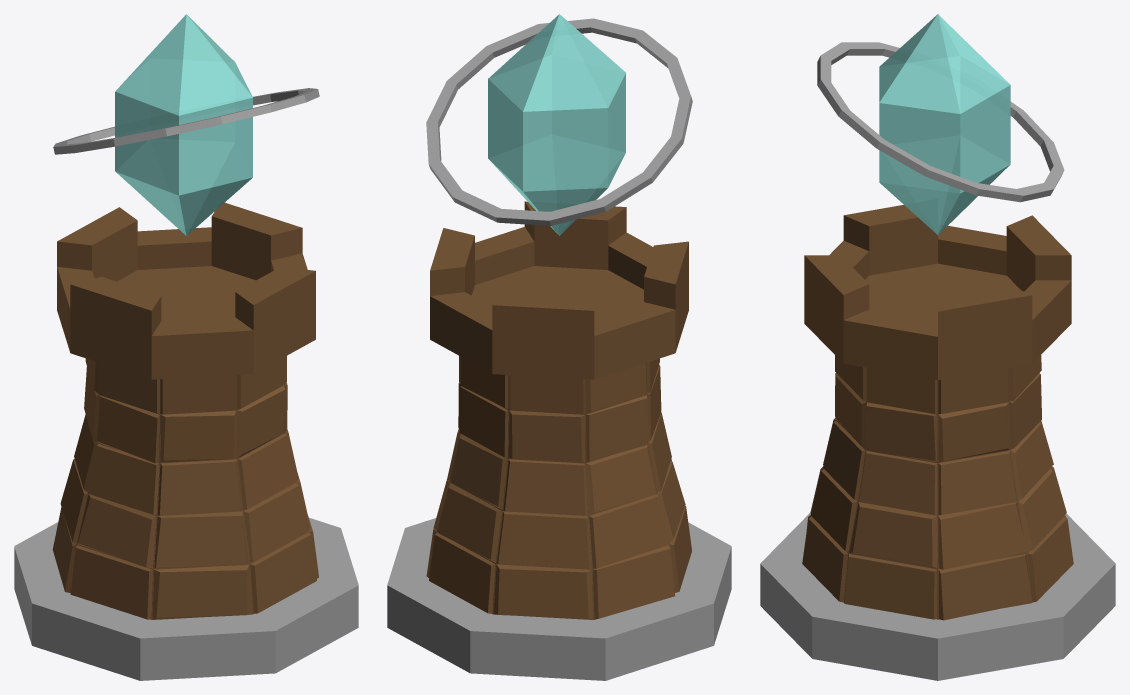
File: Restauracao_Nv1.glb
3 renders of one model, left to right at view 1: azimuth 30°, elevation 25°; view 2: azimuth 150°, elevation 25°; view 3: azimuth 270°, elevation 25°, orthographic.
Parts seen in each view (by area): view 1: Cylinder, Cristal, Turret; view 2: Cylinder, Cristal, Turret; view 3: Cylinder, Cristal, Turret.
Boxes of the visible parts, left/top/right/bottom form: Cylinder: left=14, top=202, right=358, bottom=680; Cristal: left=115, top=14, right=252, bottom=235; Turret: left=53, top=88, right=319, bottom=154; Cylinder: left=387, top=201, right=731, bottom=680; Cristal: left=488, top=14, right=625, bottom=235; Turret: left=426, top=18, right=692, bottom=225; Cylinder: left=760, top=205, right=1115, bottom=680; Cristal: left=879, top=14, right=1010, bottom=234; Turret: left=817, top=42, right=1064, bottom=202.
Size of the model in its own units: 1.07 by 1.96 by 1.07.
